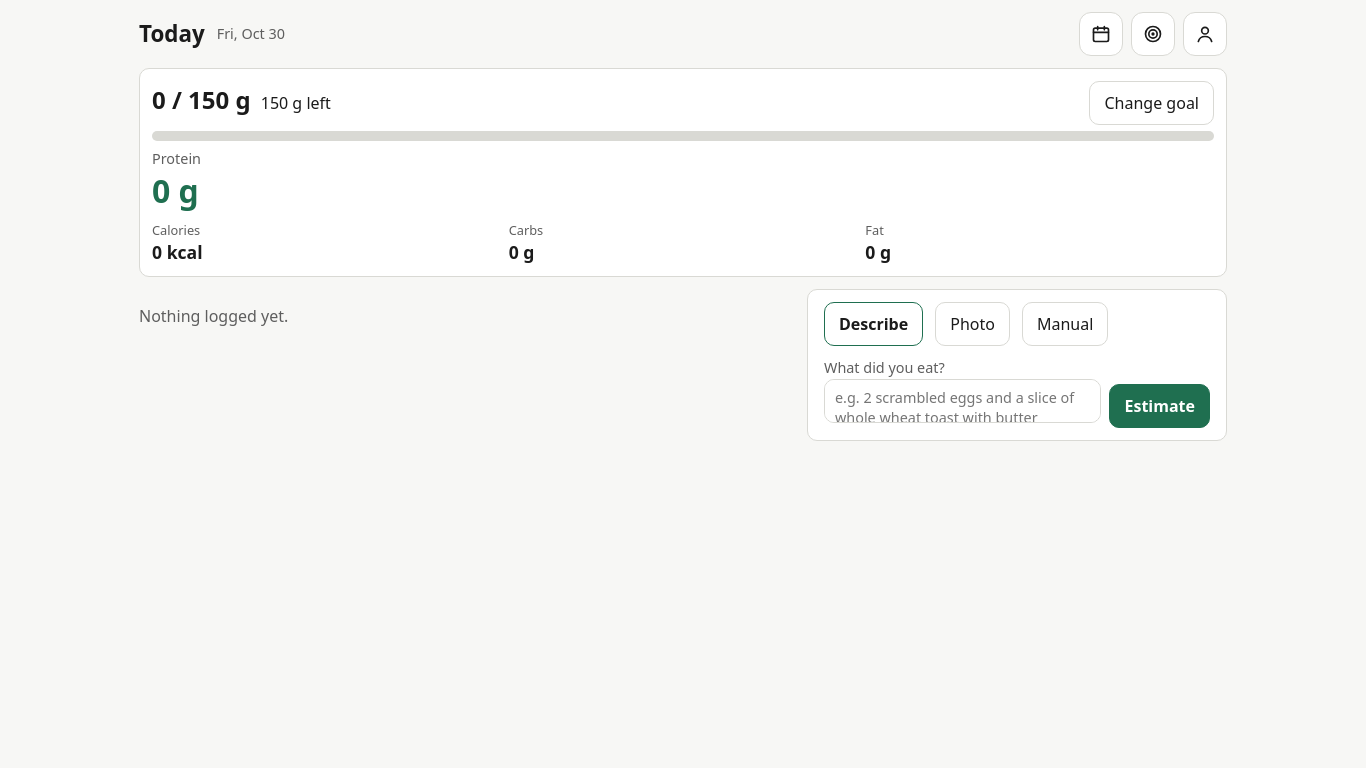
it: App shell › an open card keeps its edits across a visit to Goal settings, and uses the new goal (Q14)
This screenshot has width=1366, height=768.
Type "banana" into the text box labelled "What did you eat?" at (963, 401), box [824,379,1102,423]
Then press Enter
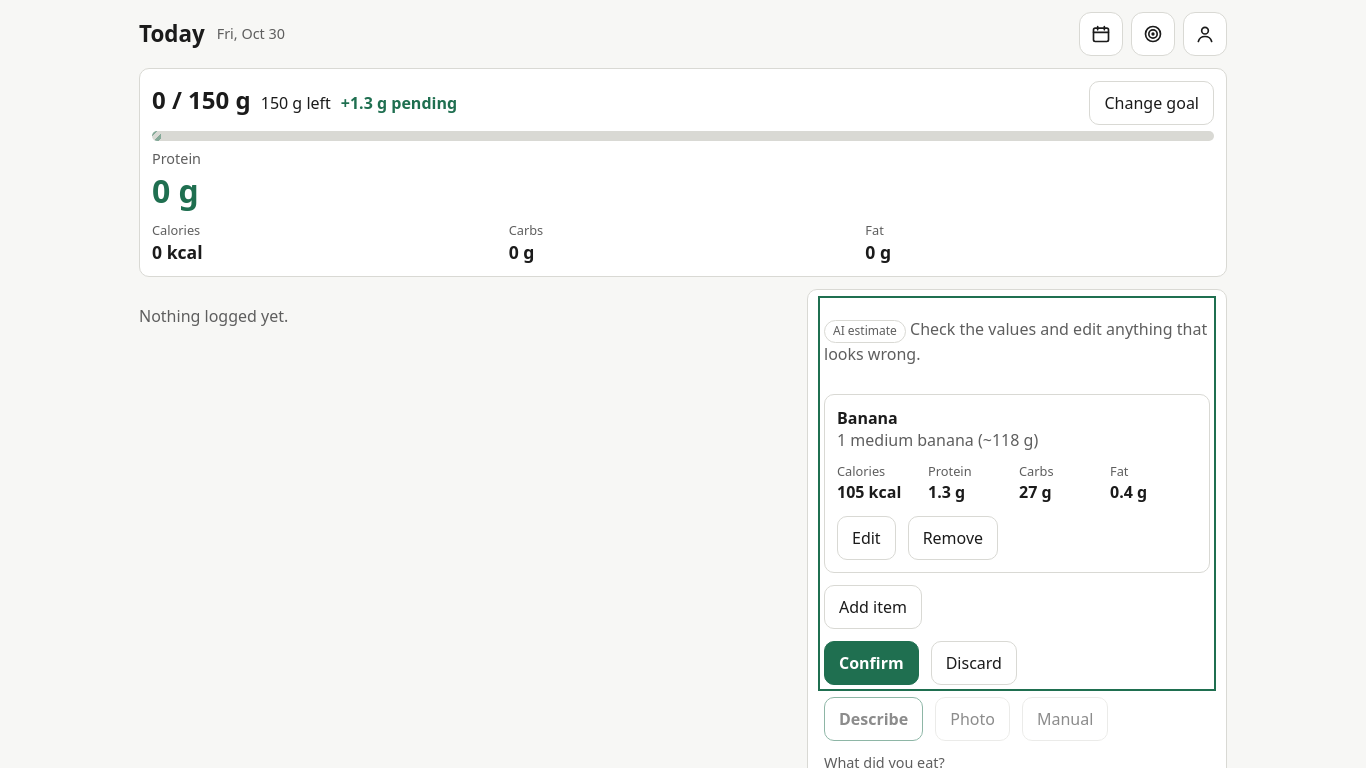
Click the button "Edit" at (866, 538), box [837,516,896,560]
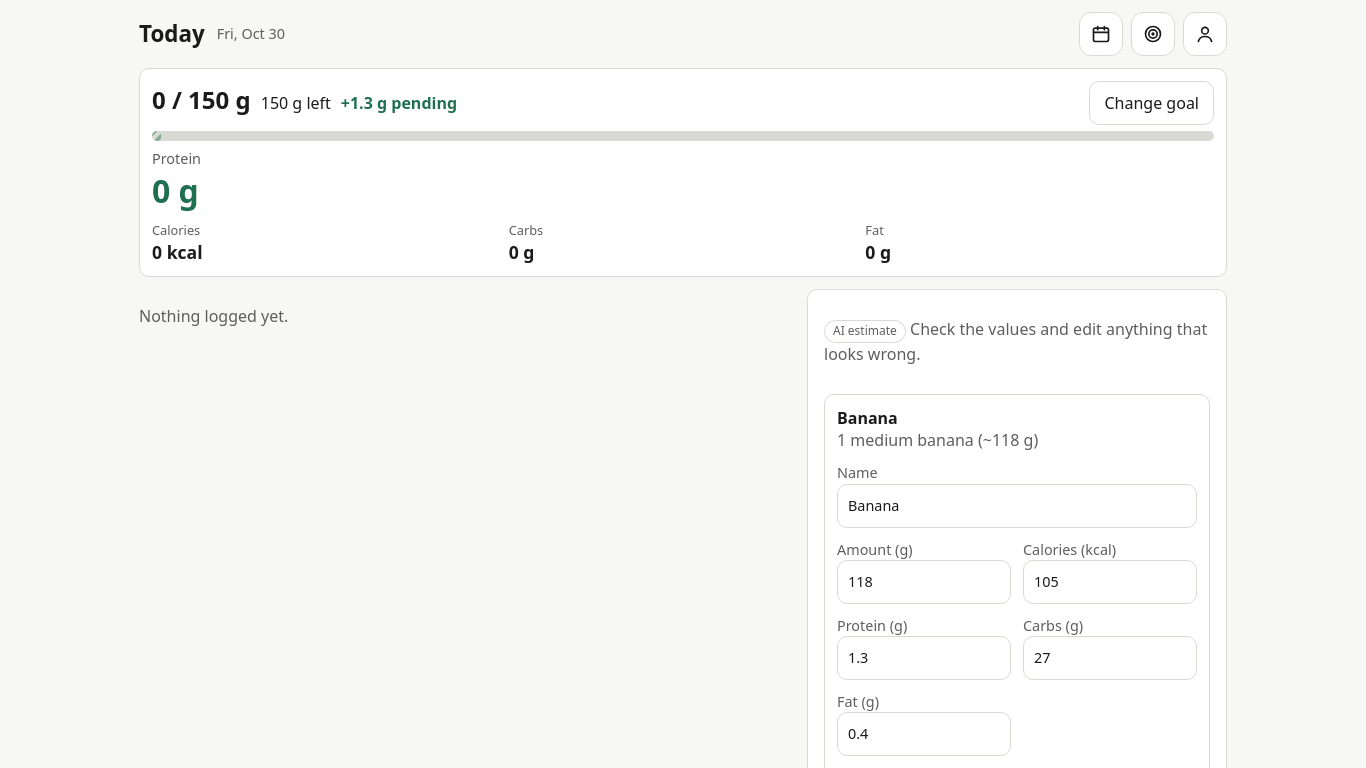
Replace the text in the number field labelled "Protein (g)" with "20" at (924, 658), box [837,636,1011,680]
(page scrolled)
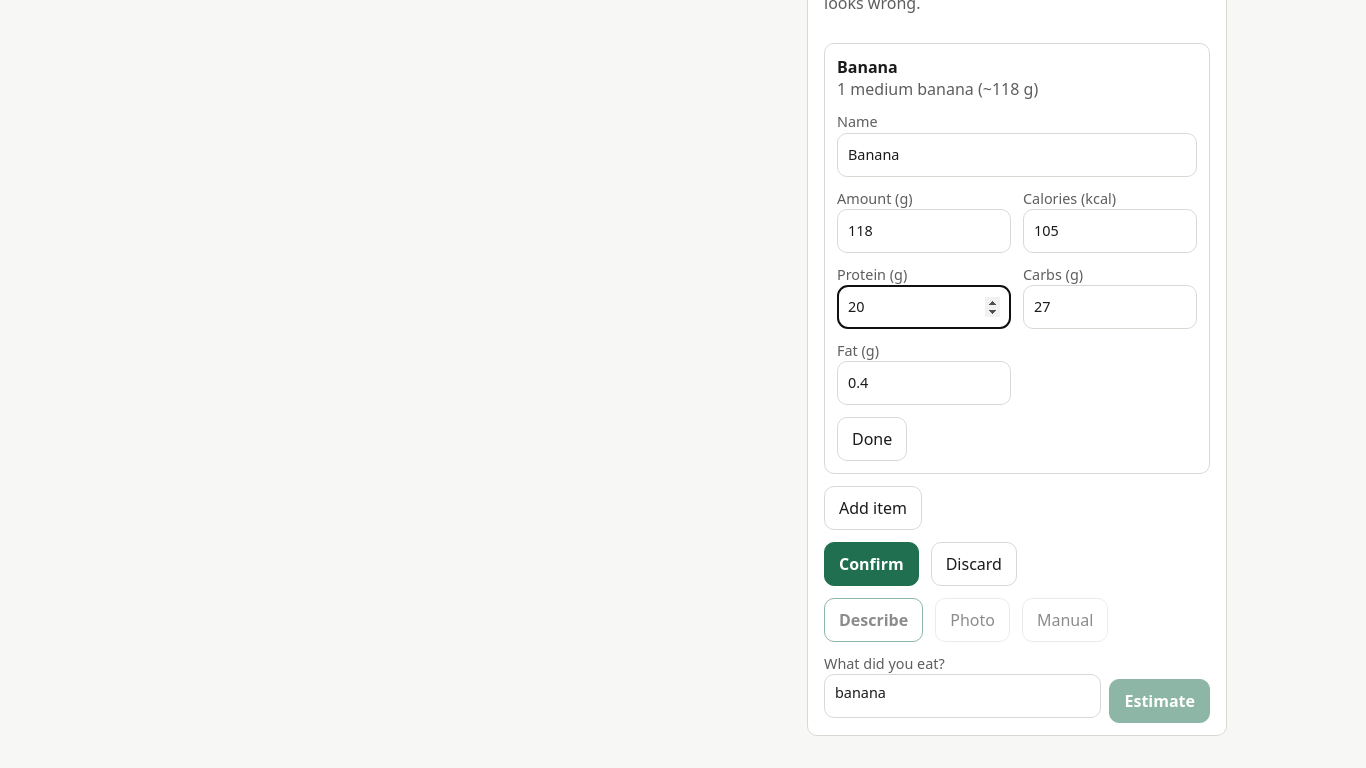
Click the button "Done" at (872, 439), box [837,417,907,461]
(page scrolled)
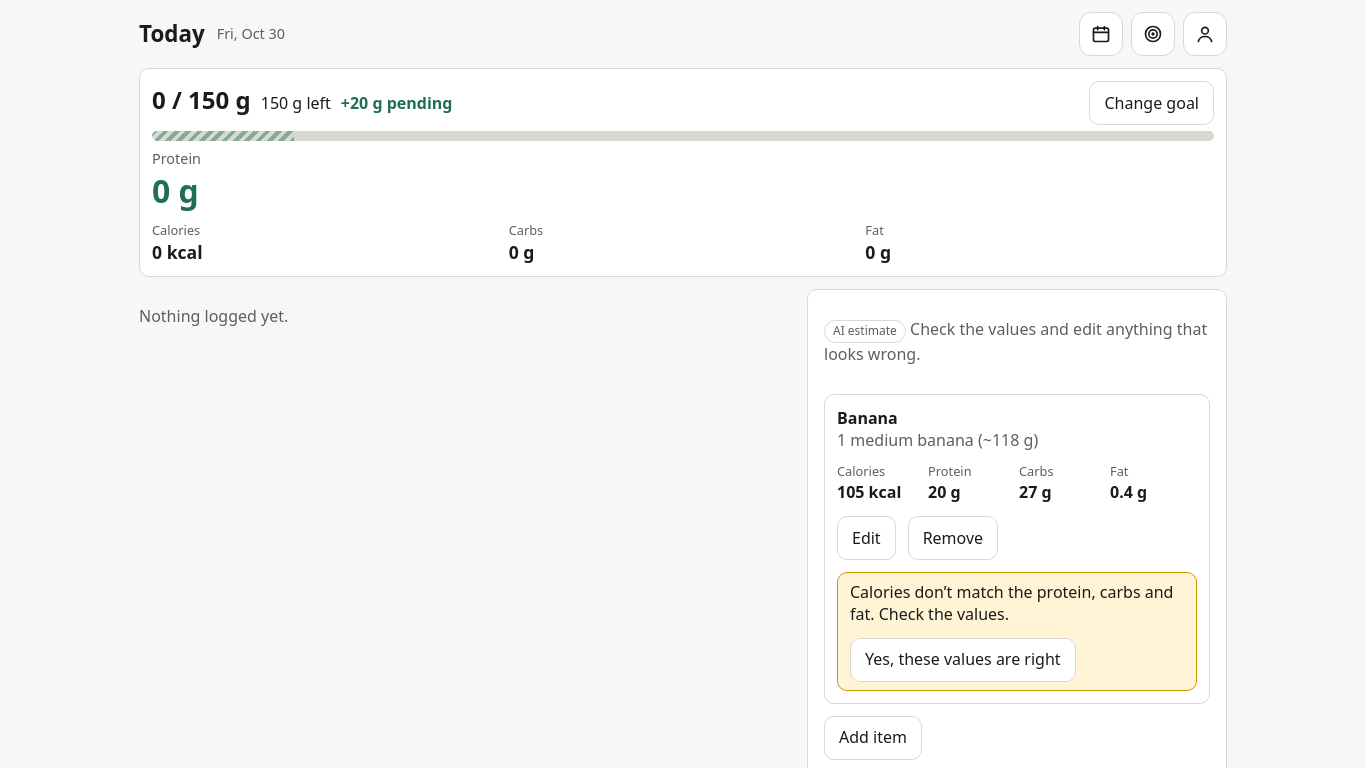
Check: the text "+20 g pending" is shown, box [341,92,452,114]
Click the button named "Goal settings" at (1153, 34), box [1131,12,1175,56]
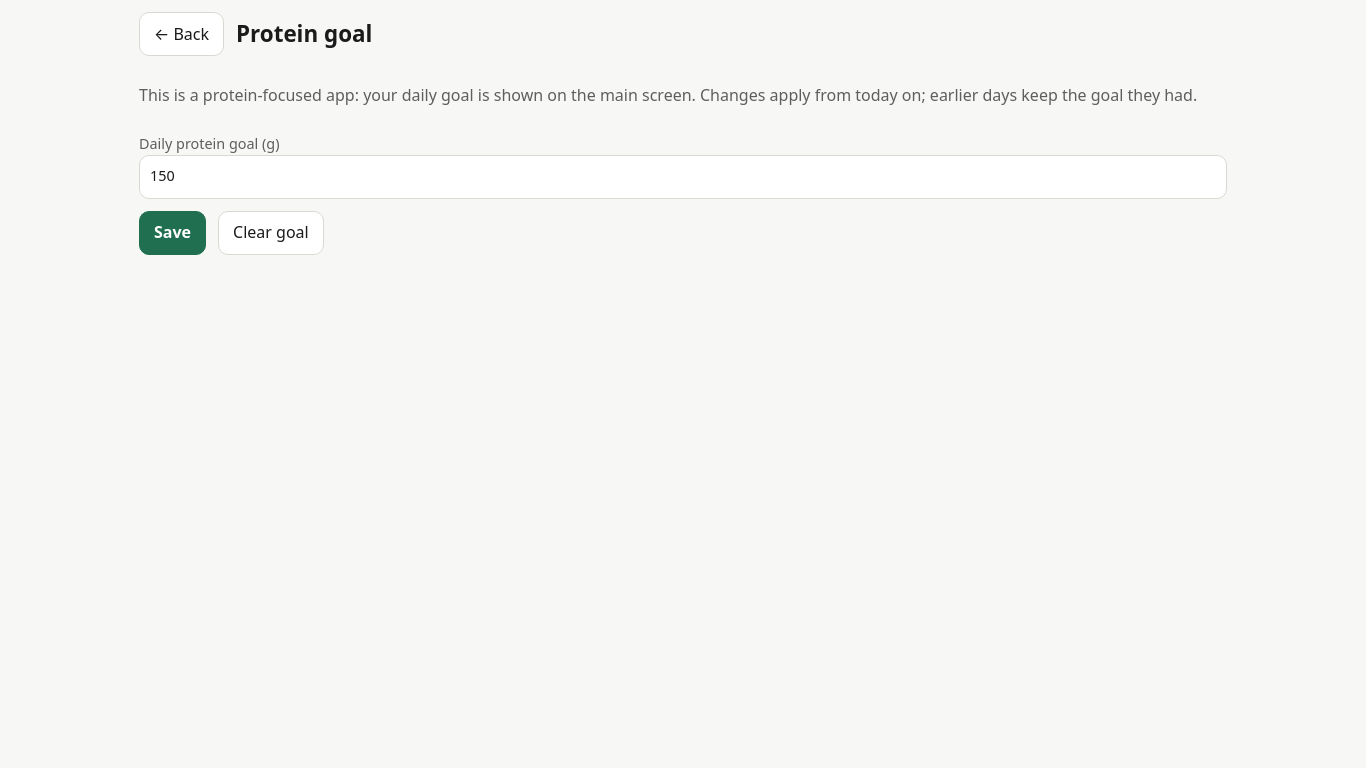
Replace the text in the number field labelled "Daily protein goal (g)" with "120" at (683, 176), box [139,154,1227,198]
Click the button "Save" at (172, 232), box [139,210,206,254]
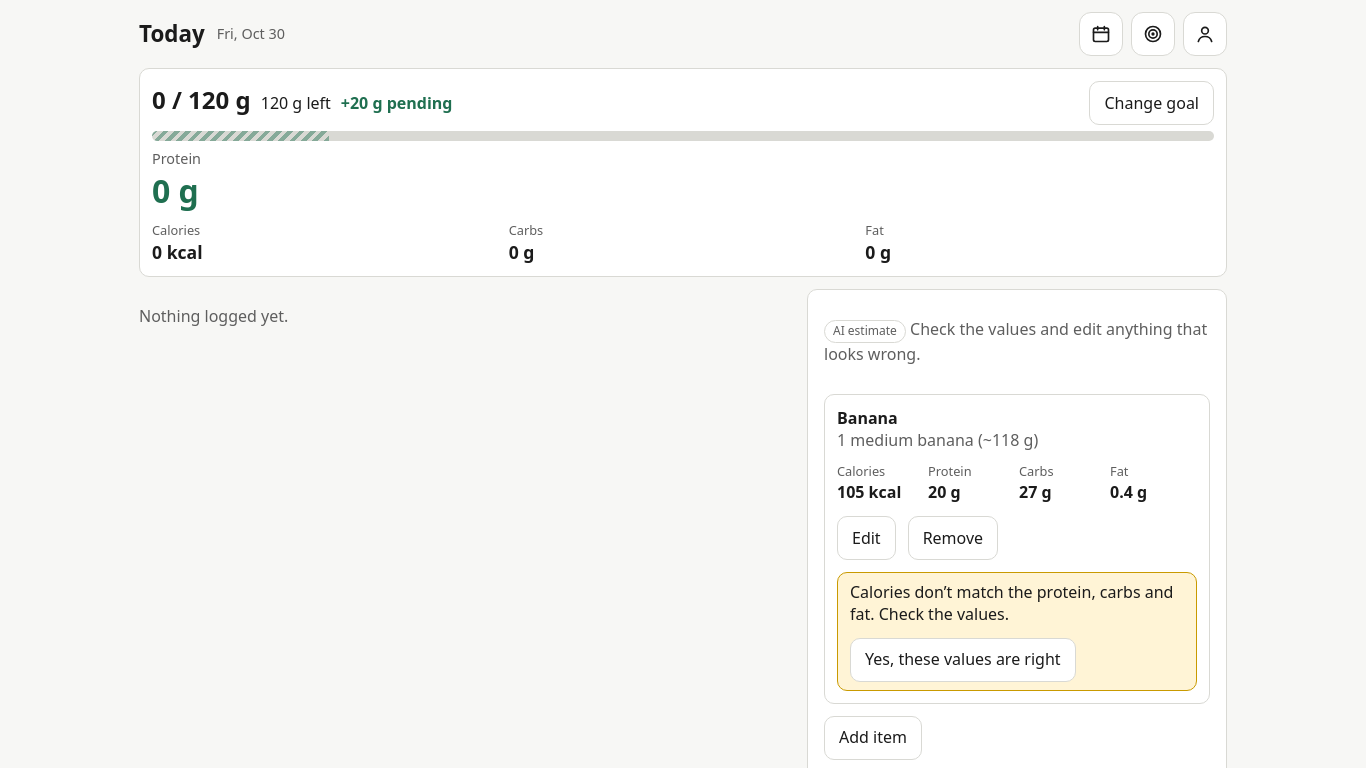
Check: the heading "Today" is shown, box [139,18,205,50]
Check: the text "20 g" is shown, box [928,481,961,503]
Check: the text "+20 g pending" is shown, box [341,92,452,114]
